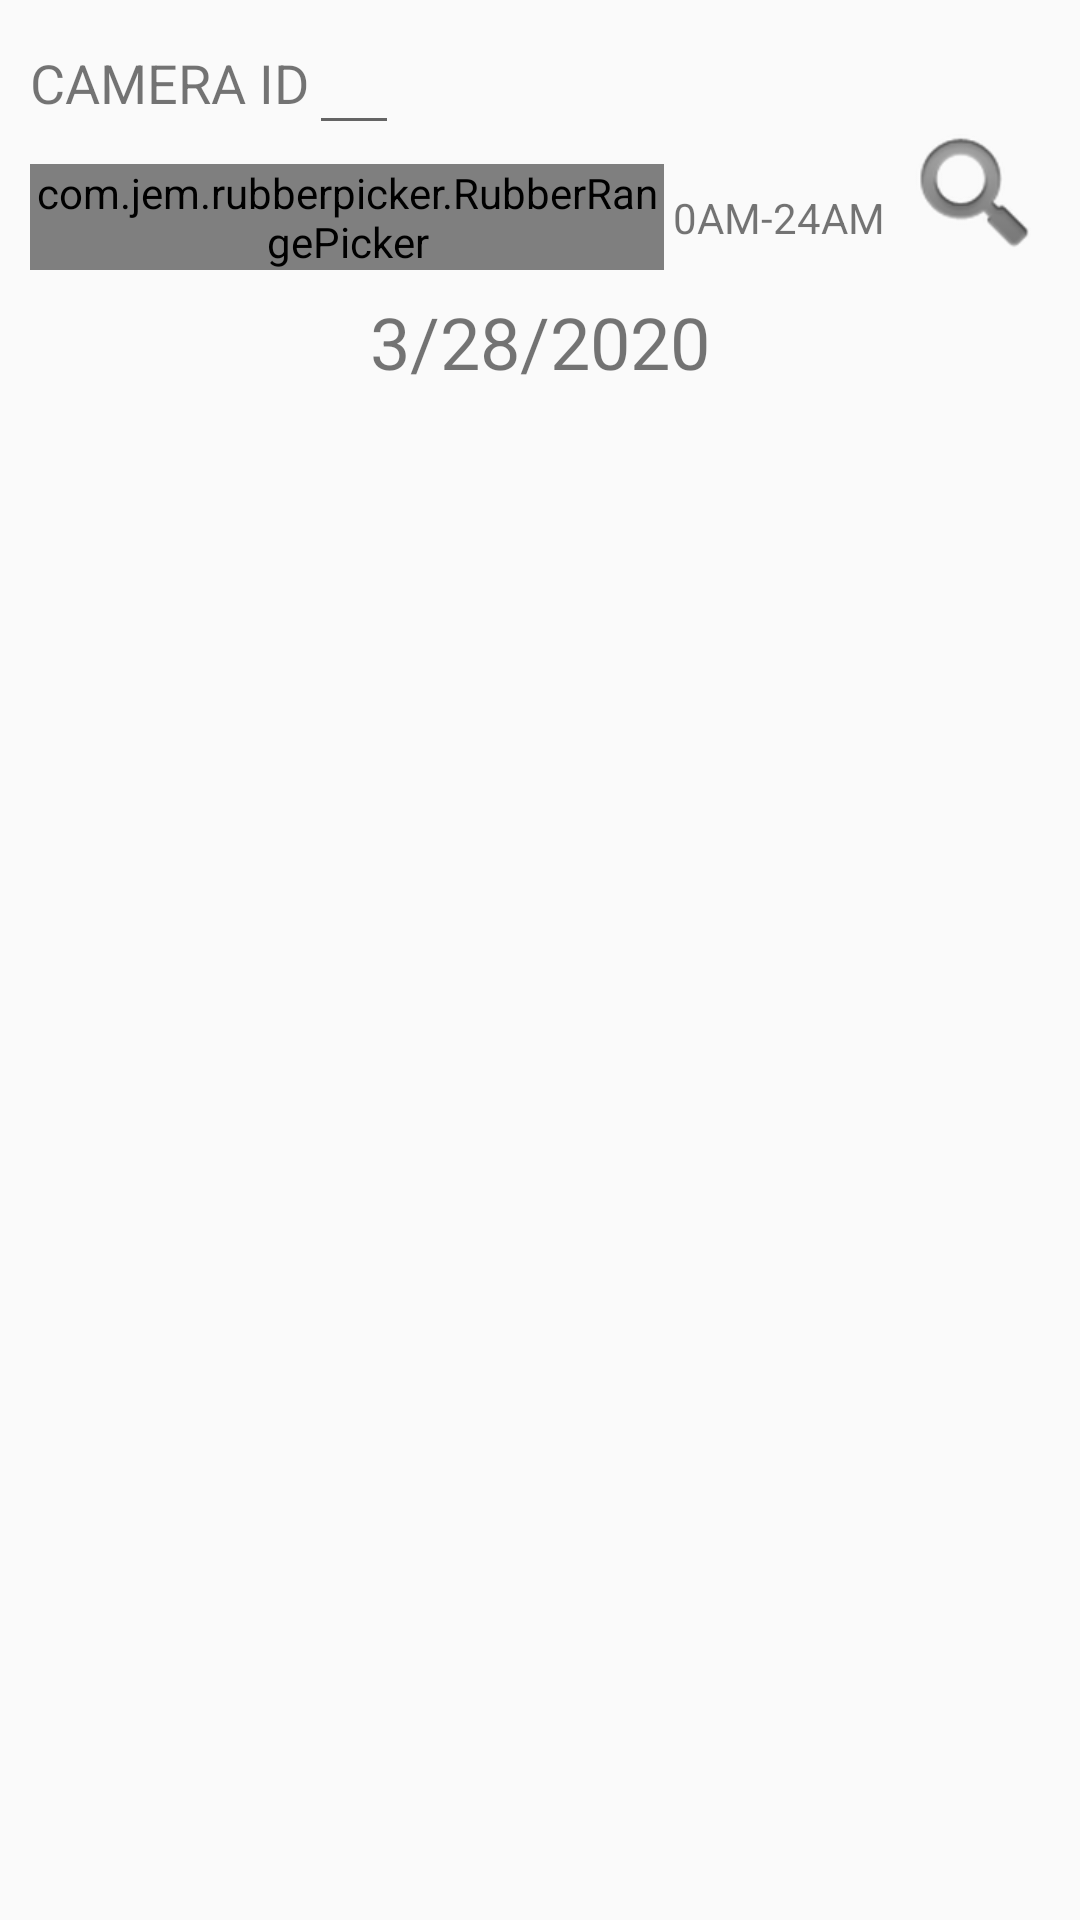

Named icons in this screenshot (1080w x 1920h) and their bounding boxes, region(x1, y1, x2, y2):
search category: region(920, 138, 1028, 246)
